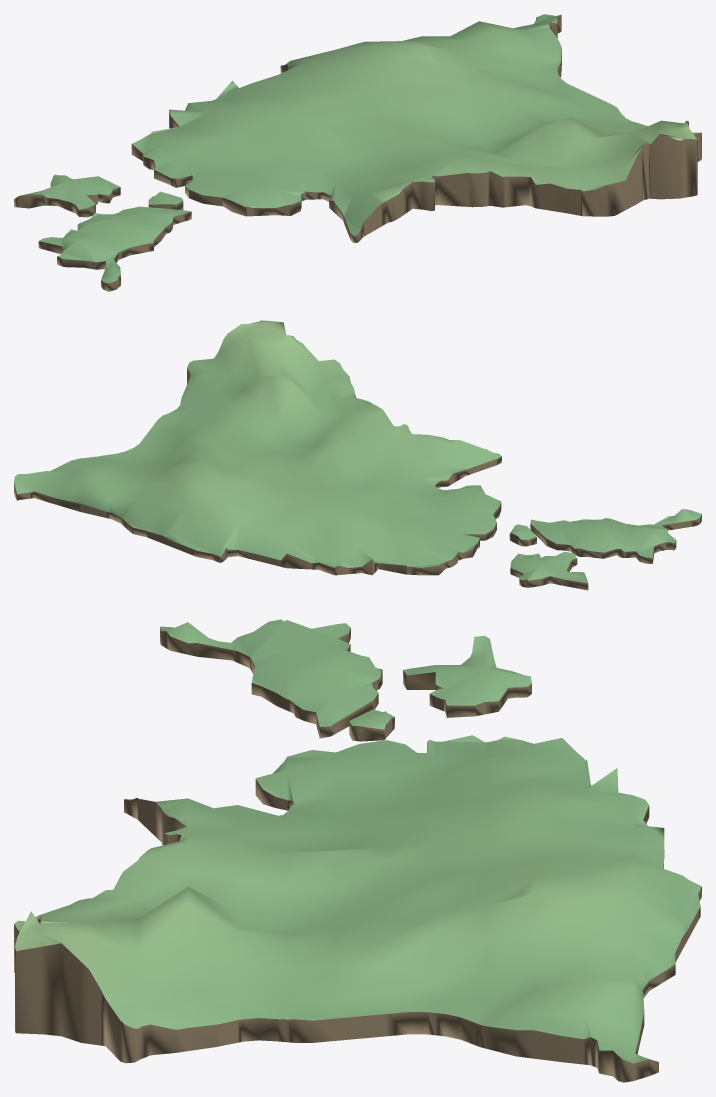
Rendered from EST.glb.
3 views of the same model, one above another, from view 1: azimuth 30°, elevation 25°; view 2: azimuth 150°, elevation 25°; view 3: azimuth 270°, elevation 25° (orthographic). The views are drawn at different scales.
Visible parts, largest first — view 1: EST; view 2: EST; view 3: EST.
Boxes of the visible parts, x1,y1,x2,y2 form: EST: (14,14,701,291); EST: (14,320,701,590); EST: (14,619,701,1082).
Size of the model in its own units: 1.68 by 0.1705 by 1.08.
